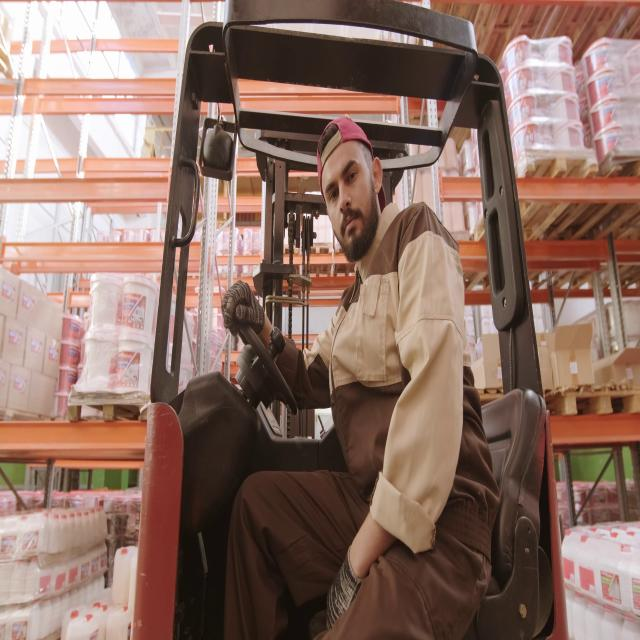gloved: (325, 546, 362, 632), (221, 280, 265, 337)
